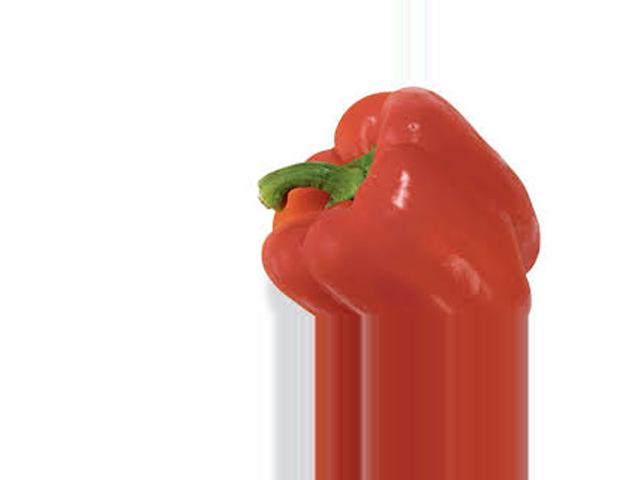bell_pepper: (218, 85, 571, 317)
